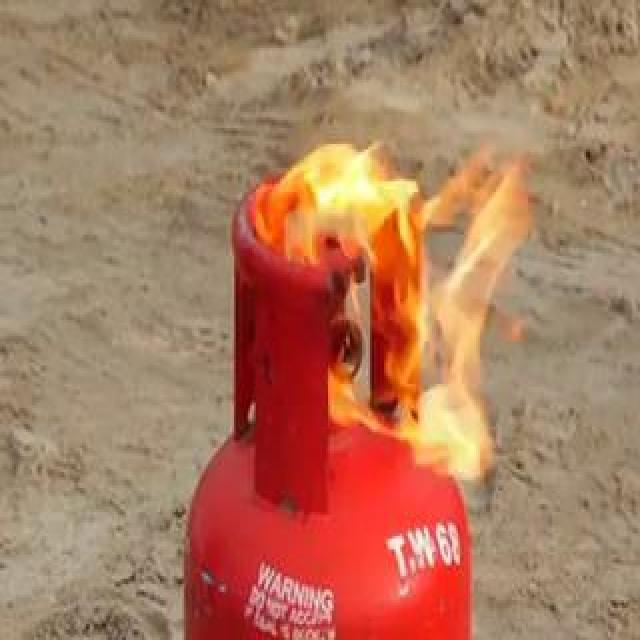Fire: (248, 53, 534, 464)
